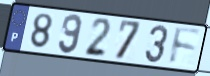2: (84, 17, 113, 59)
3: (143, 24, 169, 66)
7: (115, 18, 144, 62)
8: (29, 12, 56, 50)
9: (58, 12, 84, 56)
F: (168, 25, 203, 67)
